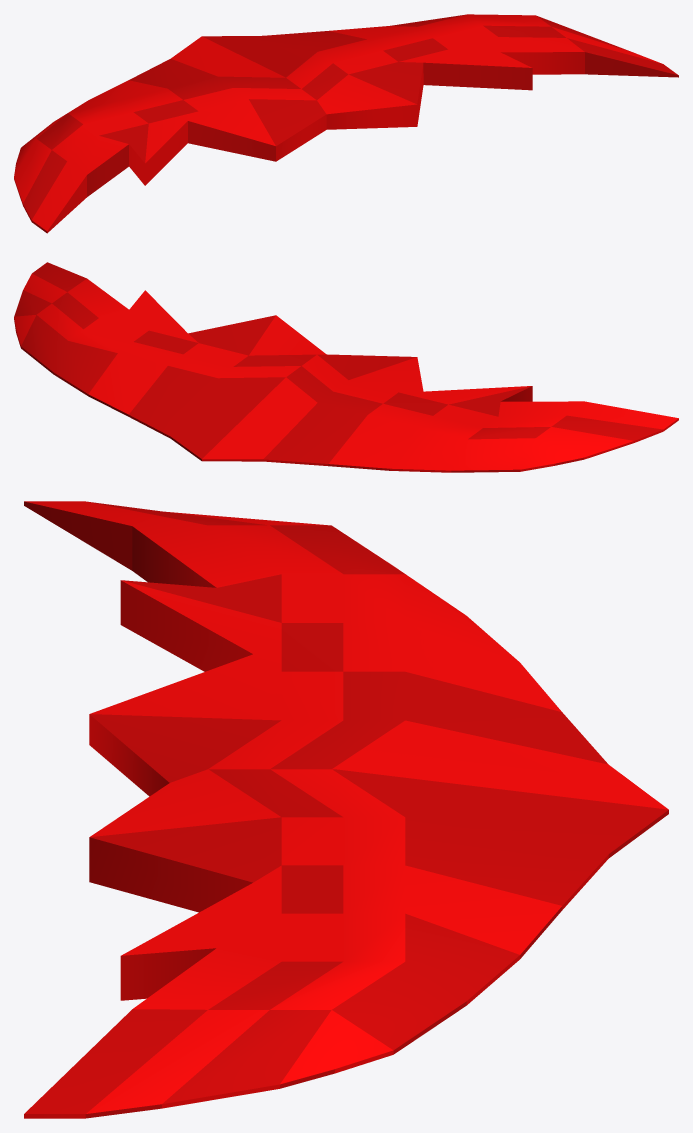
File: WaveModel.fbx
3 views of the same model, one above another, from view 1: azimuth 30°, elevation 25°; view 2: azimuth 150°, elevation 25°; view 3: azimuth 270°, elevation 25° (orthographic). The views are drawn at different scales.
Visible parts, largest first — view 1: pCube1; view 2: pCube1; view 3: pCube1.
Boxes of the visible parts, x1,y1,x2,y2 form: pCube1: [14, 14, 678, 233]; pCube1: [14, 262, 678, 472]; pCube1: [24, 501, 668, 1118].
Bounding box in the file's own units: 29.52 × 1.07 × 13.05.
